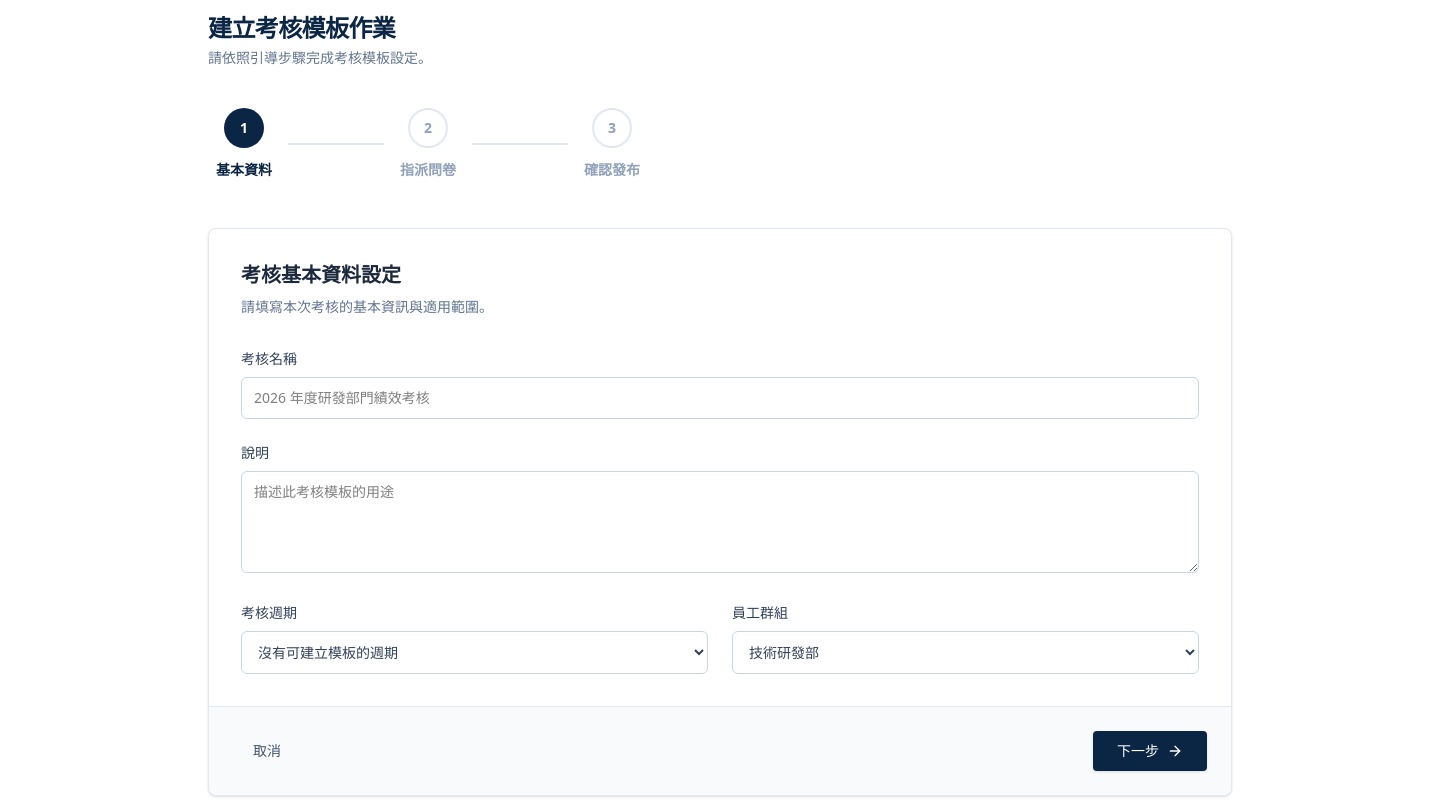
it: HR evaluation template pages › blocks the wizard when no not-started cycle is available
Expected: the heading "考核基本資料設定" is shown, [241,261,401,288]
Type "2027 研發部門考核" into the field labelled "考核名稱".
click(720, 398); type("2027 研發部門考核")  # box [241,377,1199,419]
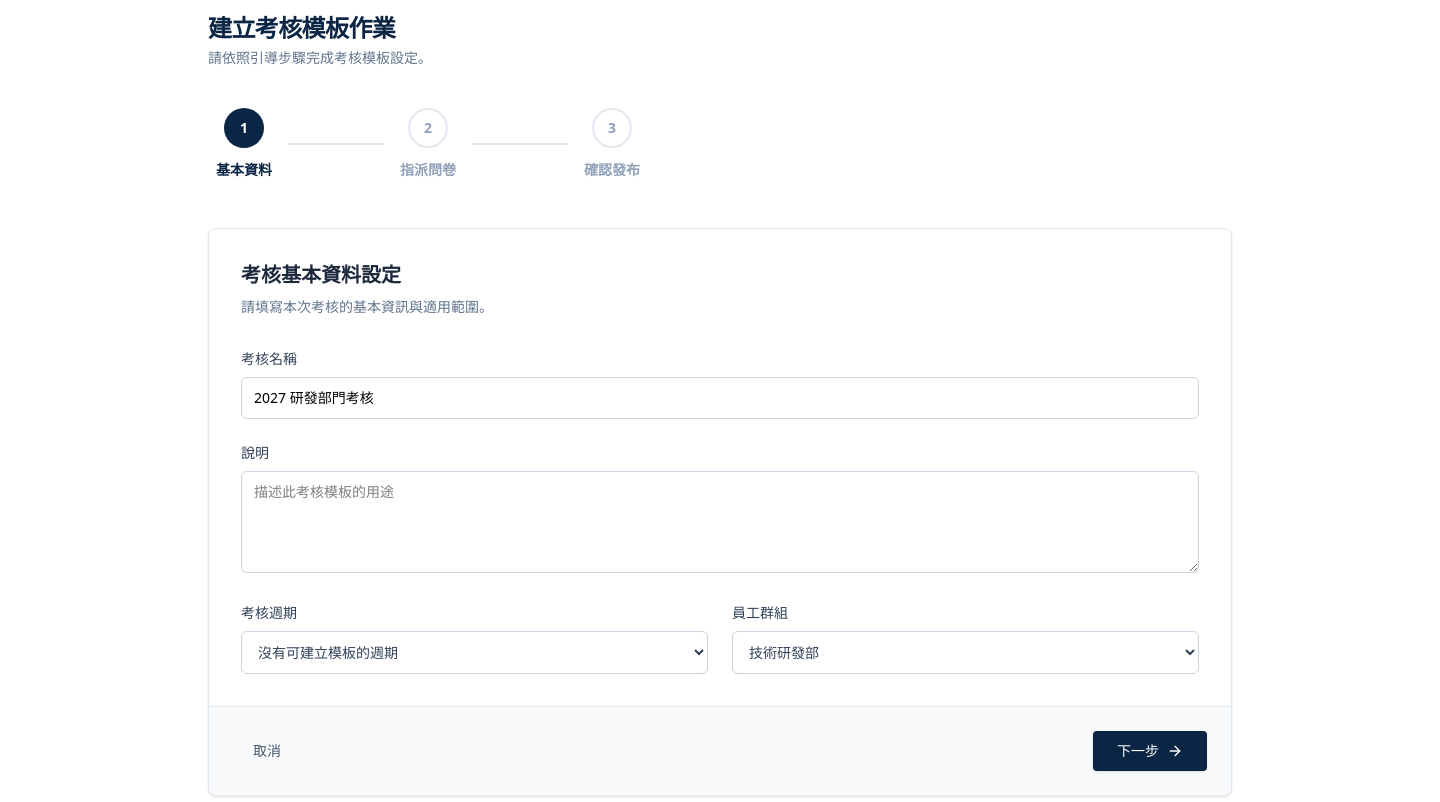
Click the button "下一步".
click(1150, 751)  # box [1093,731,1207,771]
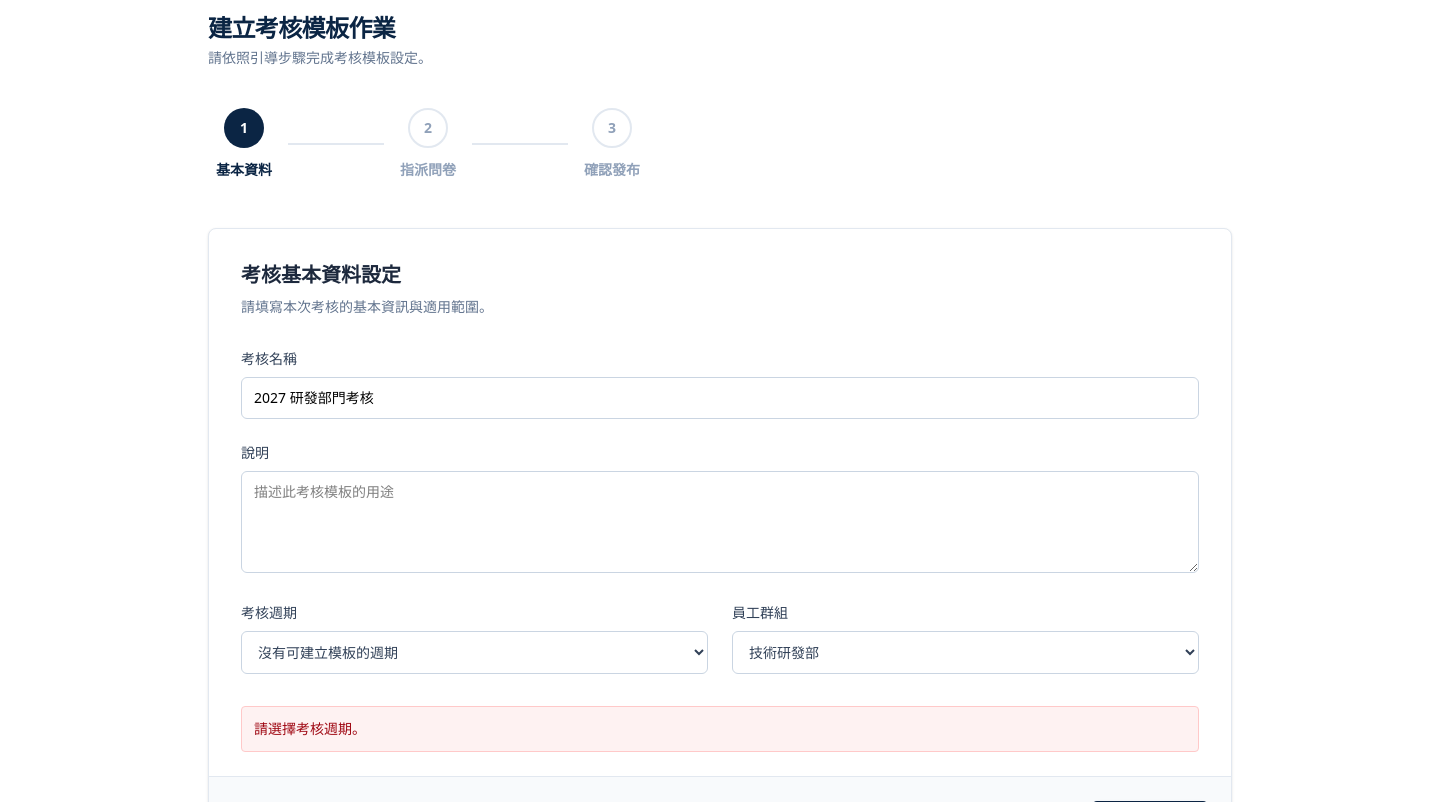
Now the text "請選擇考核週期。" is shown, box [241,706,1199,752]
